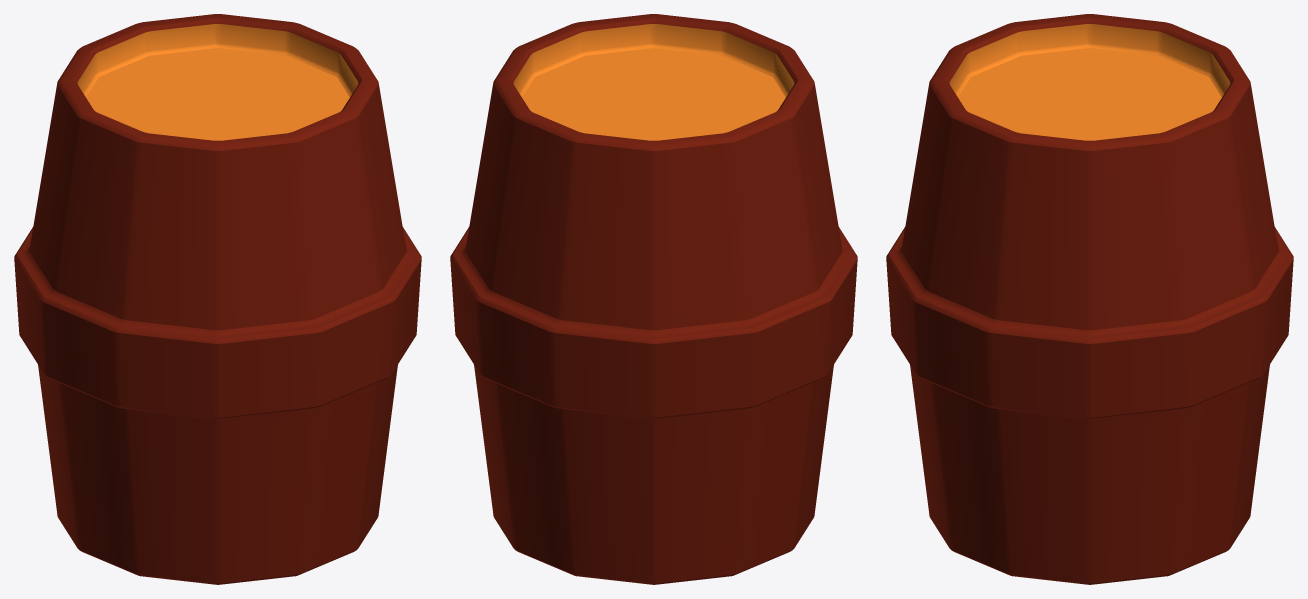
Rendered from SM_Barrelclose.FBX.
The picture shows the model from 3 angles, left to right: view 1: azimuth 30°, elevation 25°; view 2: azimuth 150°, elevation 25°; view 3: azimuth 270°, elevation 25°; orthographic projection.
Visible parts, largest first — view 1: Tonneau_ferme; view 2: Tonneau_ferme; view 3: Tonneau_ferme.
Boxes of the visible parts, x1,y1,x2,y2 form: Tonneau_ferme: (14, 14, 421, 584); Tonneau_ferme: (450, 14, 857, 584); Tonneau_ferme: (886, 14, 1293, 584).
Size of the model in its own units: 769 by 769 by 914.
